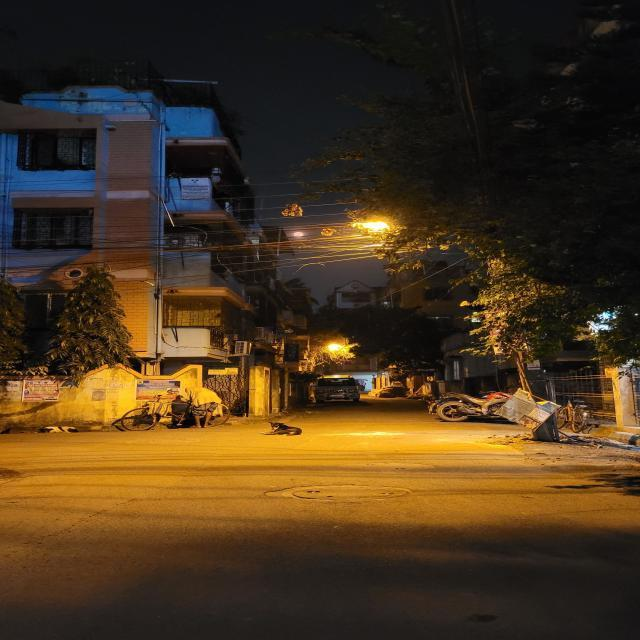on: (353, 208, 401, 259), (312, 326, 362, 374)
